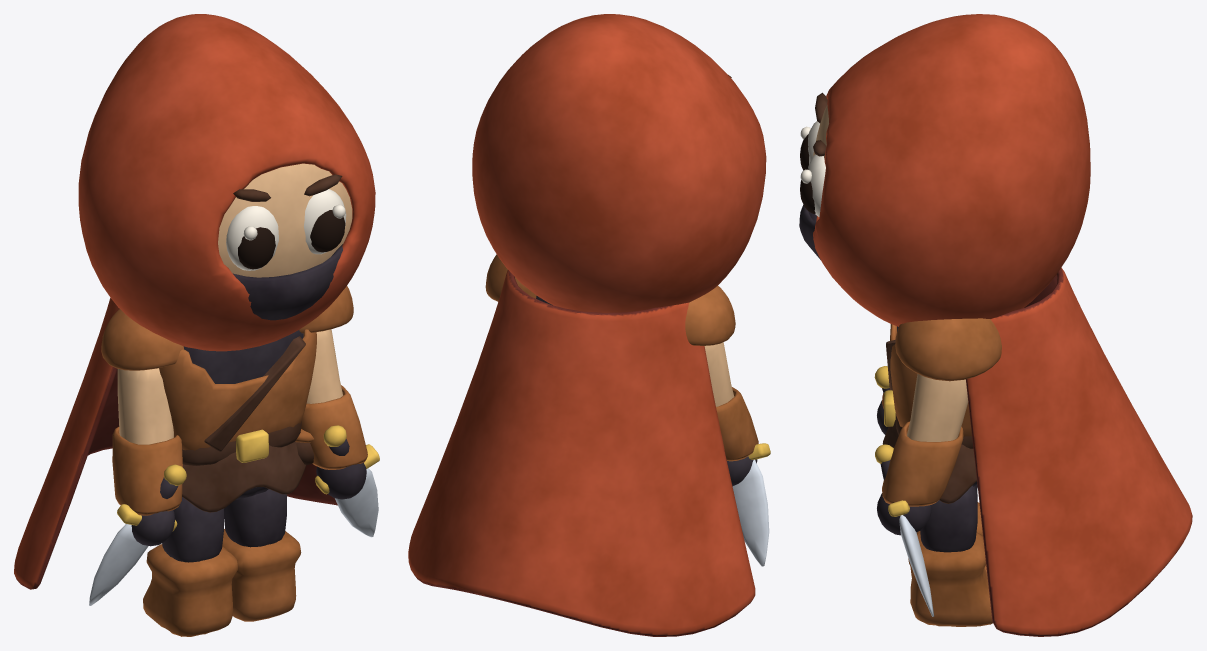
The model's file is chr_hero_rogue.glb.
3 views of the same model, side by side, from view 1: azimuth 30°, elevation 25°; view 2: azimuth 150°, elevation 25°; view 3: azimuth 270°, elevation 25° (orthographic).
Visible parts, largest first — view 1: HeroExport; view 2: HeroExport; view 3: HeroExport.
Boxes of the visible parts, x1=… form: HeroExport: x1=14, y1=14, x2=379, y2=636; HeroExport: x1=408, y1=14, x2=770, y2=636; HeroExport: x1=799, y1=14, x2=1192, y2=636.
Size of the model in its own units: 1.32 by 2.22 by 1.36.
Materials: 1 (1 with a texture image).
